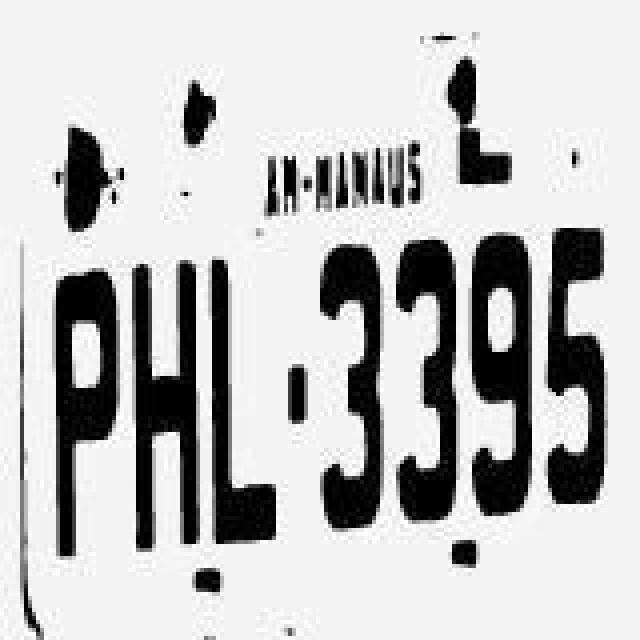3: (392, 230, 472, 522), (316, 238, 388, 530)
5: (542, 222, 634, 514)
9: (462, 230, 546, 522)
H: (128, 258, 208, 550)
L: (200, 260, 280, 548)
P: (48, 262, 128, 554)
